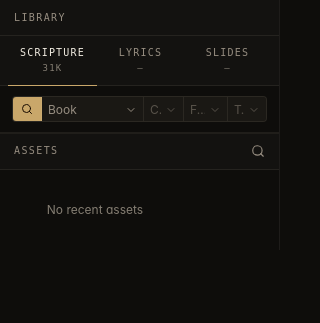
Test: LibraryPanel › shows song results in Lyrics tab
Click the button "Lyrics —" at (140, 61), box [97,36,184,86]
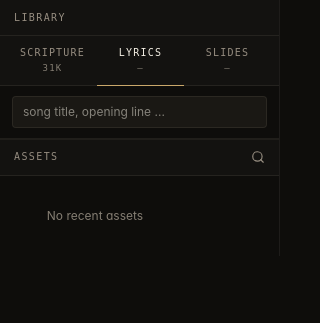
Expected: the field with placeholder "song title, opening line ..." is shown
Type "grace" into the field with placeholder "song title, opening line ..." at (140, 112), box [12,96,267,128]
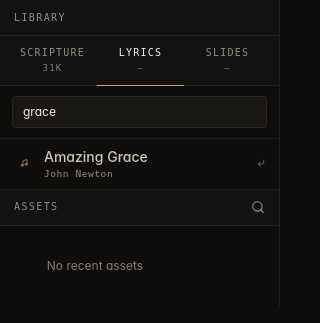
Expected: the text "Amazing Grace" is shown, [44,148,148,165]
